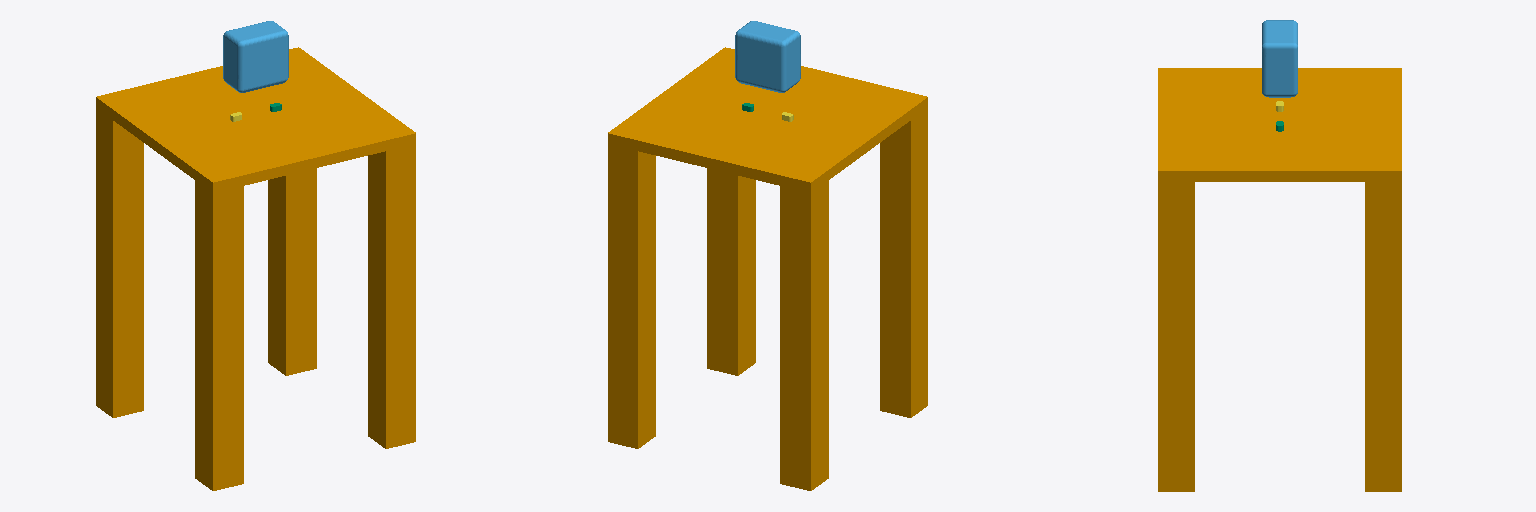
The robot description file, URDF, robot "cartesian_envrionment":
<?xml version="1.0"?>
<robot name="cartesian_envrionment">
    <link name="base_link">
        <visual>
            <geometry>
                <mesh filename="./table.stl"/>
            </geometry>
        </visual>
        <collision>
            <geometry>
                <mesh filename="./table.stl"/>
            </geometry>
        </collision>
    </link>

    <joint name="table_to_gripper" type="fixed">
        <parent link="base_link" />
        <child link="gripper_base" />
        <origin xyz="0 0 0.560" rpy="0 0 0" />
    </joint>

    <link name="gripper_base">
        <visual>
            <geometry>
                <mesh filename="./gripper_base.stl"/>
            </geometry>
        </visual>
        <collision>
            <geometry>
                <mesh filename="./gripper_base.stl"/>
            </geometry>
        </collision>
    </link>

    <joint name="gripper_to_finger1" type="fixed">
        <parent link="gripper_base" />
        <child link="finger1" />
        <origin xyz="0.048 0 -0.185" rpy="0 0 0" />
    </joint>

    <joint name="gripper_to_finger2" type="fixed">
        <parent link="gripper_base" />
        <child link="finger2" />
        <origin xyz="-0.048 0 -0.185" rpy="0 0 0" />
    </joint>

    <link name="finger1">
        <visual>
            <geometry>
                <mesh filename="./gripper_finger.stl"/>
            </geometry>
        </visual>
        <collision>
            <geometry>
                <mesh filename="./gripper_finger.stl"/>
            </geometry>
        </collision>
    </link>

    <link name="finger2">
        <visual>
            <geometry>
                <mesh filename="./gripper_finger.stl"/>
            </geometry>
        </visual>
        <collision>
            <geometry>
                <mesh filename="./gripper_finger.stl"/>
            </geometry>
        </collision>
    </link>
</robot>

--- Facts derived from the render (not from the file) ---
Views: 3 orthographic renders of the robot side by side, from view 1: azimuth 30°, elevation 25°; view 2: azimuth 150°, elevation 25°; view 3: azimuth 270°, elevation 25°.
Robot: cartesian_envrionment — 4 links, 3 joints (3 fixed); root link base_link; default pose: all joints at 0.
Visible links, largest first — view 1: base_link, gripper_base; view 2: base_link, gripper_base; view 3: base_link, gripper_base.
Boxes of the visible links, <box> form: base_link: <box>96,47,415,490</box>; gripper_base: <box>223,21,288,92</box>; base_link: <box>608,47,927,490</box>; gripper_base: <box>735,21,800,92</box>; base_link: <box>1158,68,1401,491</box>; gripper_base: <box>1262,20,1297,97</box>.
Size in the robot's own frame: 0.5 by 0.5 by 0.9225 metres.
4 mesh visuals loaded from 3 distinct referenced files (3 binary STL).